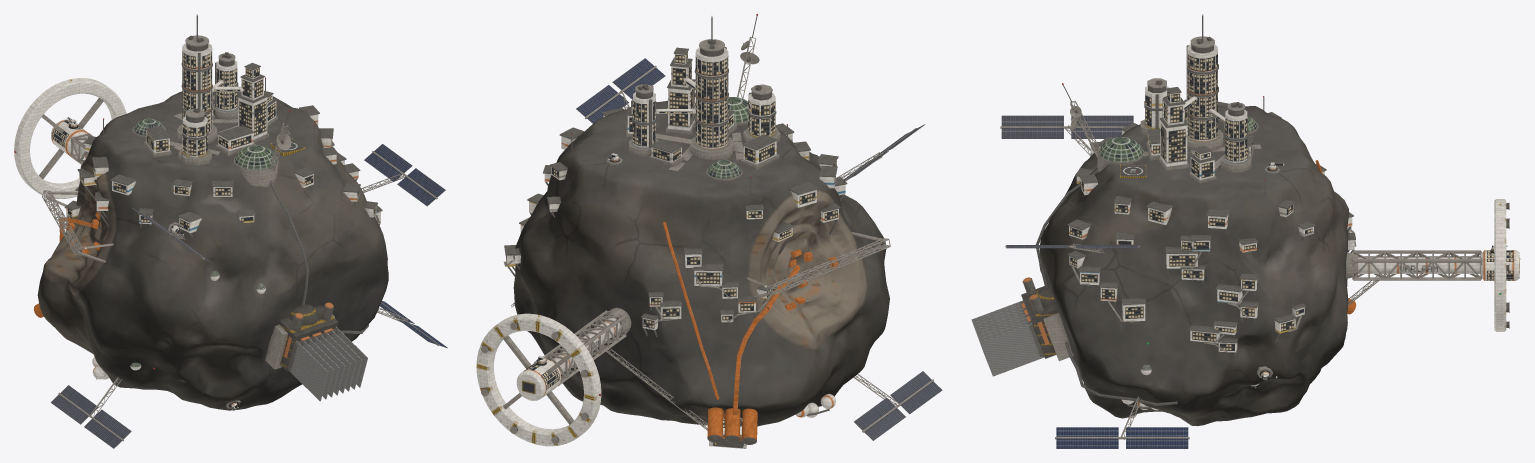
Rendered from station.glb.
The picture shows the model from 3 angles, left to right: view 1: azimuth 30°, elevation 25°; view 2: azimuth 150°, elevation 25°; view 3: azimuth 270°, elevation 25°; orthographic projection. The views are drawn at different scales.
Parts seen in each view (by area): view 1: rock, hull; view 2: rock, hull; view 3: rock, hull.
Part boxes in pixels (x1,y1,x2,y2): rock: [37, 91, 388, 410]; hull: [14, 14, 447, 448]; rock: [513, 100, 889, 426]; hull: [476, 14, 942, 448]; rock: [1039, 105, 1348, 426]; hull: [971, 14, 1520, 448].
Size of the model in its own units: 330 by 351 by 458.
Materials: 6 (3 with a texture image).
